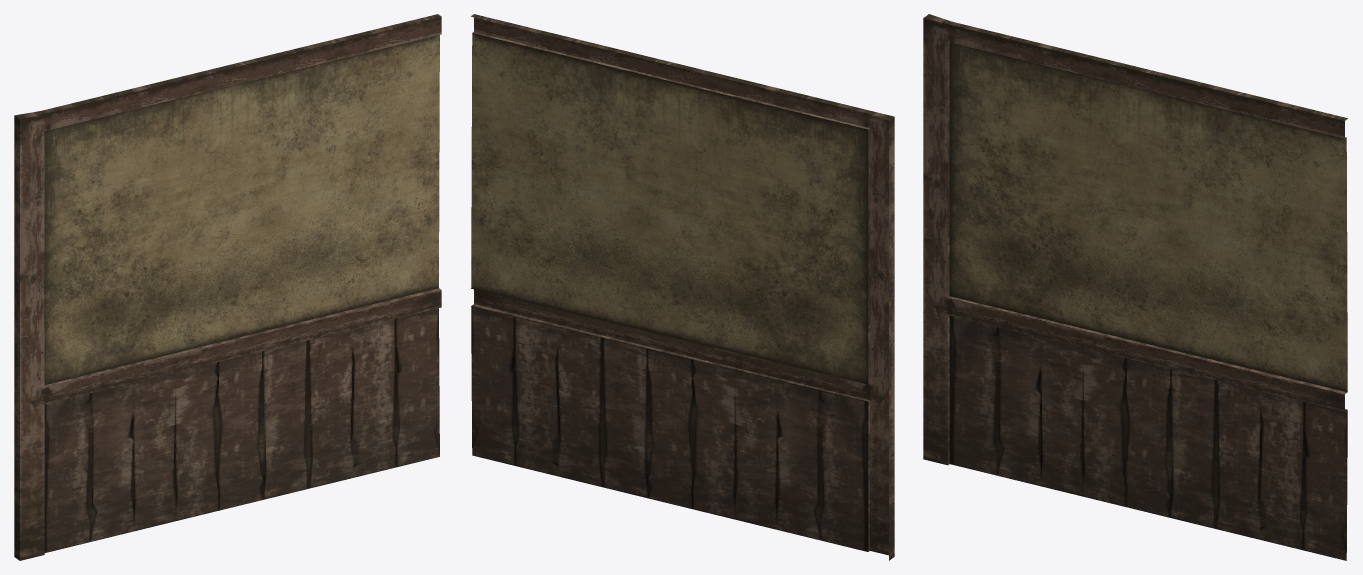
Rendered from ReWall2.fbx.
The picture shows the model from 3 angles, left to right: view 1: azimuth 30°, elevation 25°; view 2: azimuth 150°, elevation 25°; view 3: azimuth 330°, elevation 25°; orthographic projection.
Parts seen in each view (by area): view 1: RrWall2; view 2: RrWall2; view 3: RrWall2.
Boxes of the visible parts, x1,y1,x2,y2 form: RrWall2: (14,14,441,560); RrWall2: (471,14,894,560); RrWall2: (923,14,1347,560).
Size of the model in its own units: 300 by 300 by 7.
Materials: 2 (2 with a texture image).
